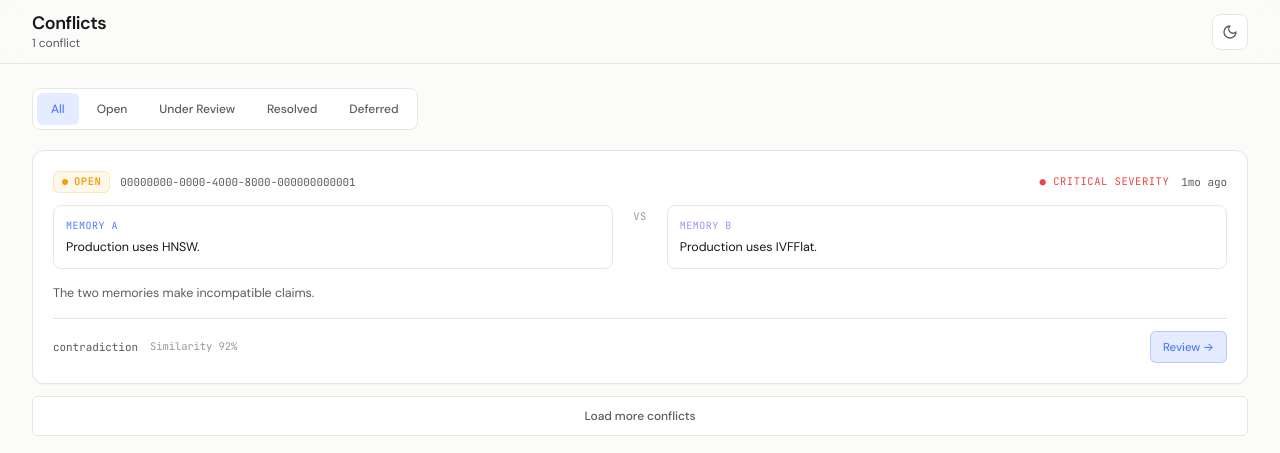
it: clears accumulated conflicts when a later page loses access
Expected: the text "Production uses HNSW." is shown, [66,239,200,255]
What coordinates should you click on to do the following:
click the button with test id "conflicts-load-more"
I would click on:
 (640, 416)
Its box is [32,396,1248,436].
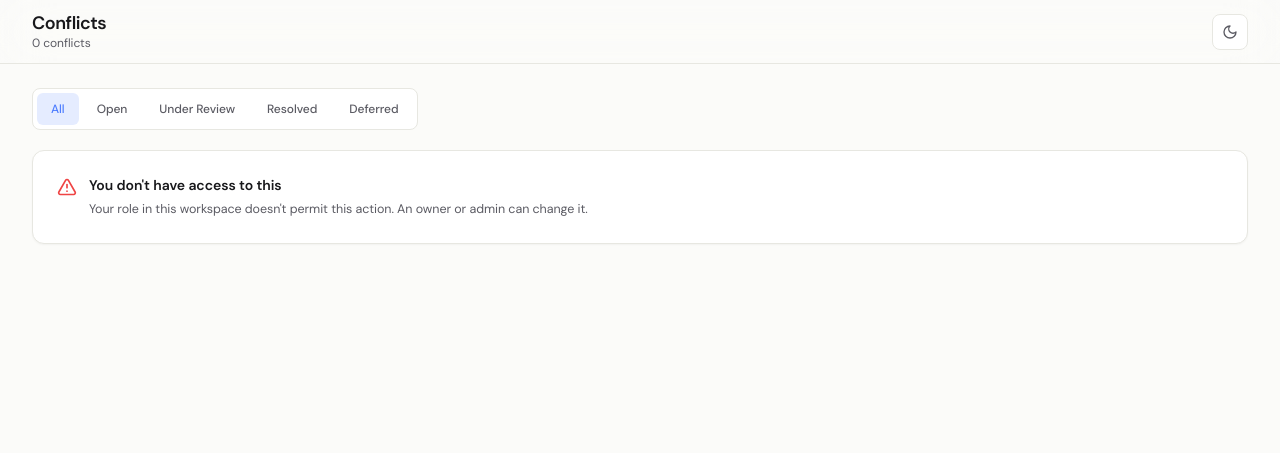
Result: the message with test id "conflicts-error" is shown at [32,150,1248,244]
Result: the link "Production uses HNSW." is gone
